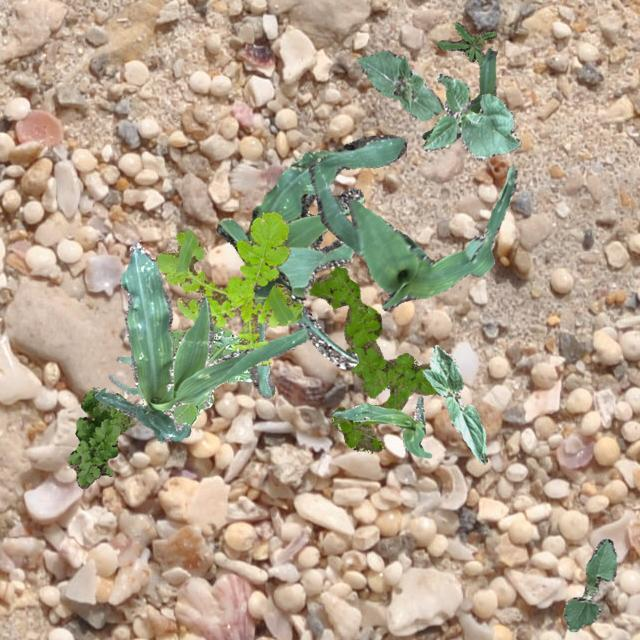crop: (216, 134, 406, 398), (92, 240, 306, 442), (308, 159, 516, 309), (422, 72, 520, 160), (421, 343, 486, 462), (422, 48, 496, 138), (356, 50, 442, 119), (332, 396, 430, 456), (562, 538, 616, 630), (108, 356, 138, 394)
weed: (307, 266, 438, 452), (154, 210, 302, 364), (170, 322, 252, 424), (66, 390, 132, 488), (434, 22, 496, 68)
